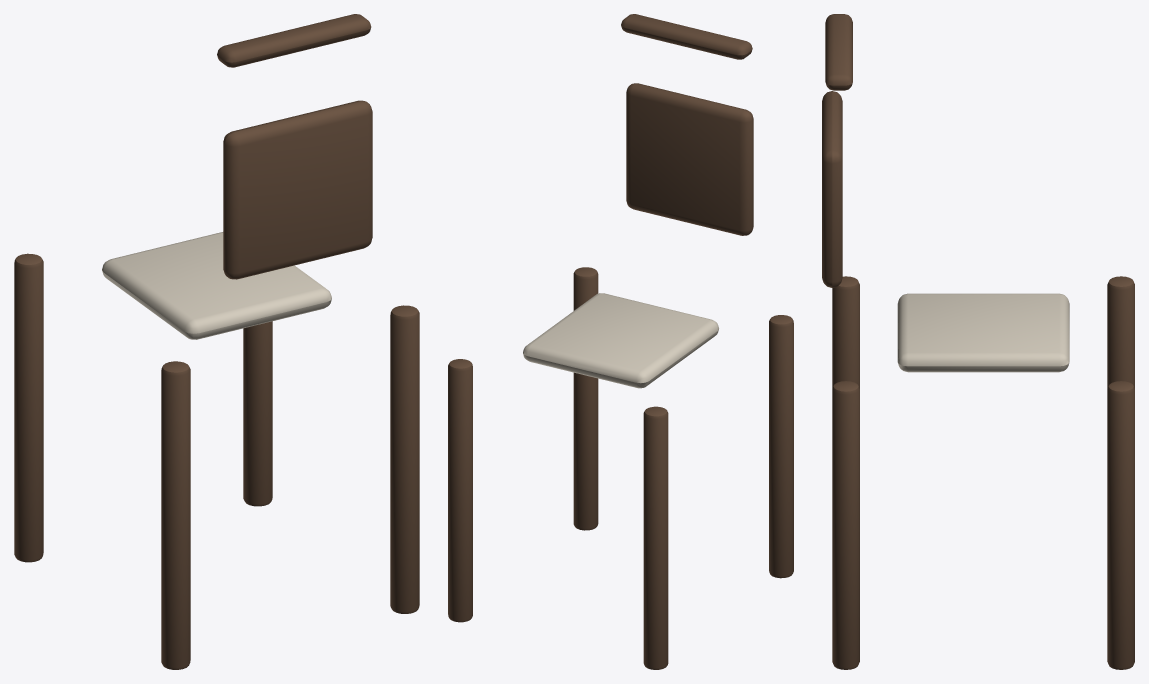
File: dining_chair.glb
The picture shows the model from 3 angles, left to right: view 1: azimuth 30°, elevation 25°; view 2: azimuth 150°, elevation 25°; view 3: azimuth 270°, elevation 25°; orthographic projection. The views are drawn at different scales.
Parts seen in each view (by area): view 1: back, seat, leg.001, leg.002, leg, leg.003, rail; view 2: back, seat, leg.001, leg.003, leg, leg.002, rail; view 3: seat, leg.003, leg.002, back, leg.001, leg, rail.
Boxes of the visible parts, x1,y1,x2,y2 form: back: (223, 100, 372, 279); seat: (102, 232, 331, 339); leg.001: (14, 253, 43, 562); leg.002: (390, 305, 419, 613); leg: (161, 361, 190, 669); leg.003: (243, 321, 272, 506); rail: (217, 14, 371, 67); back: (626, 83, 753, 235); seat: (523, 293, 718, 388); leg.001: (643, 406, 668, 669); leg.003: (448, 359, 472, 622); leg: (769, 315, 793, 578); leg.002: (573, 267, 598, 530); rail: (621, 14, 752, 59); seat: (897, 293, 1069, 372); leg.003: (1107, 381, 1134, 669); leg.002: (832, 381, 859, 669); back: (822, 91, 842, 287); leg.001: (1107, 276, 1134, 388); leg: (832, 276, 859, 388); rail: (825, 14, 852, 90).
Bounding box in the file's own units: 0.4 × 0.9125 × 0.455.
